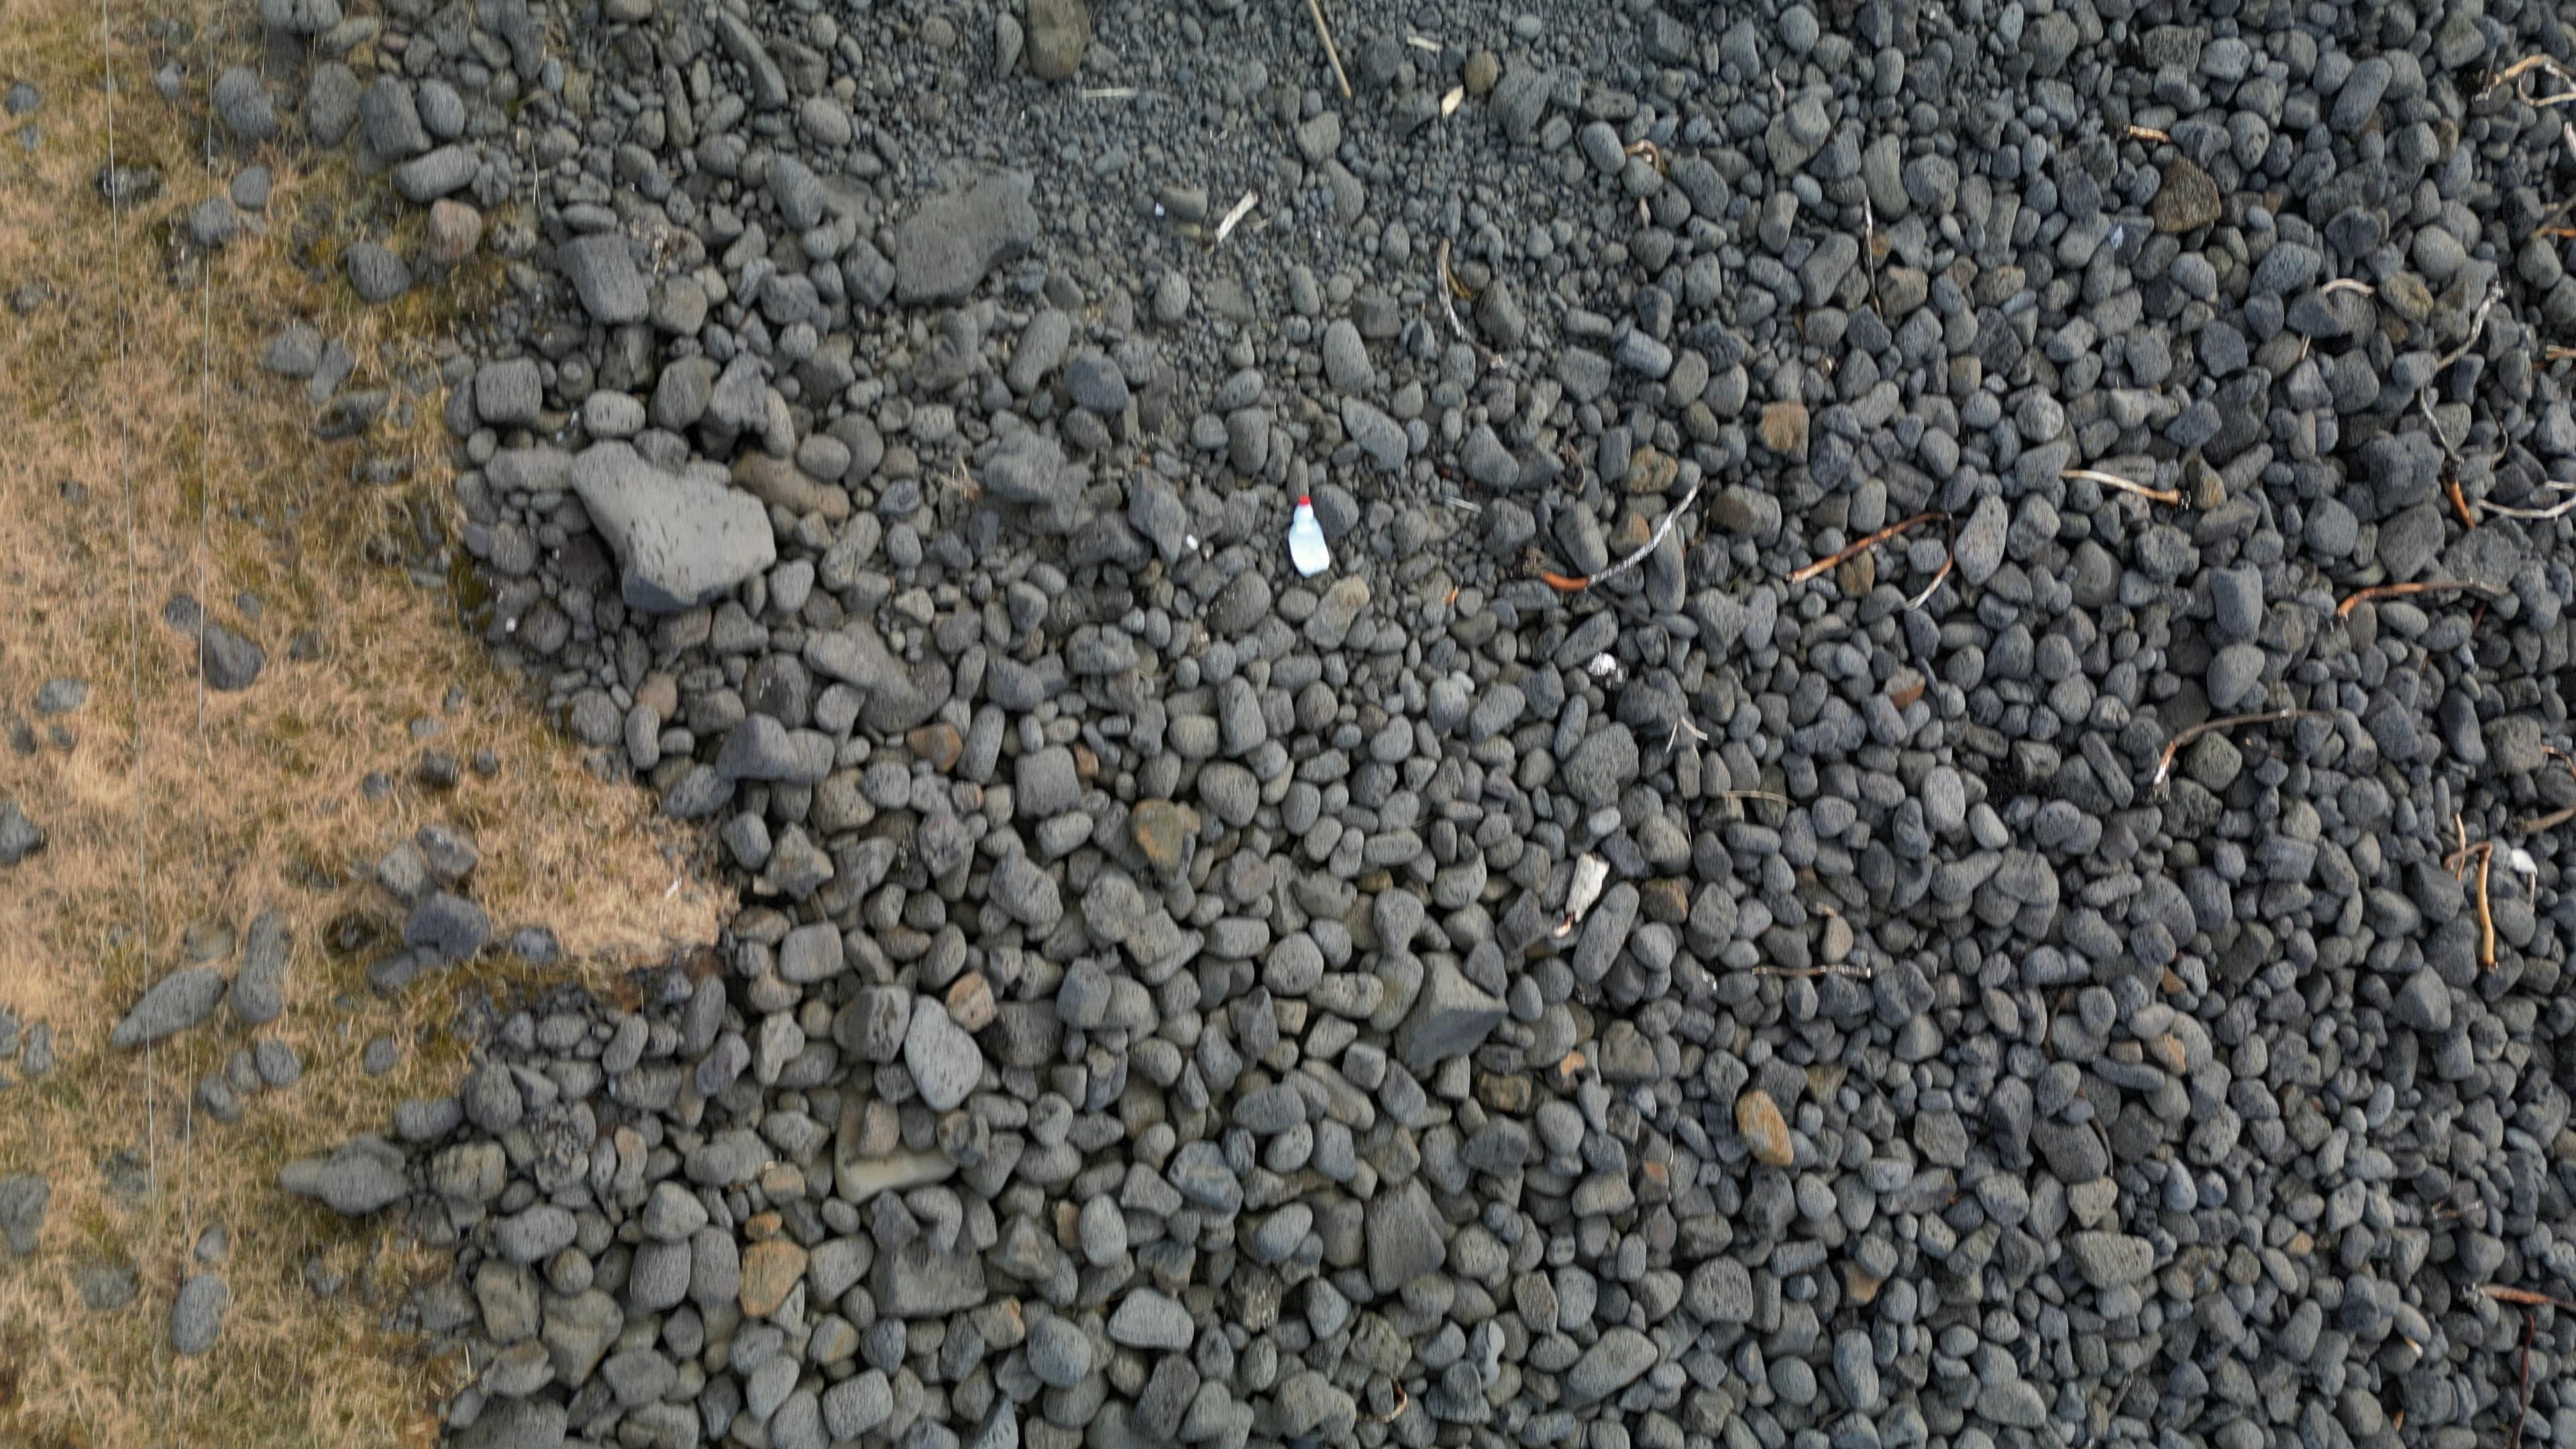trash: (1288, 499, 1334, 573)
